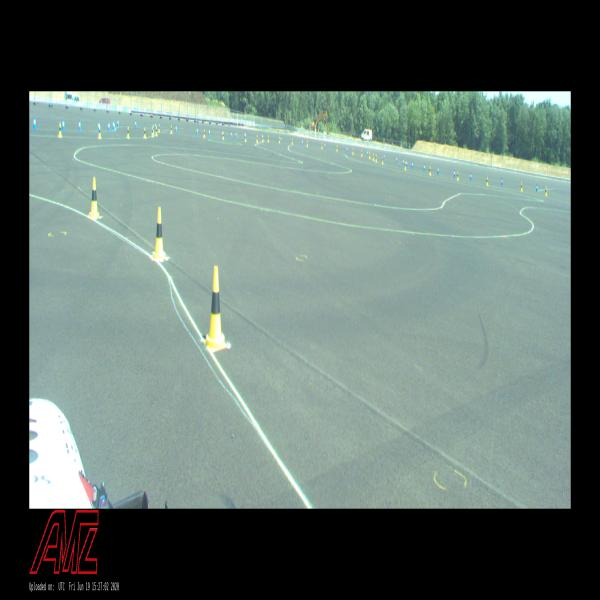blue_cone: (78, 119, 82, 132), (97, 120, 100, 132), (62, 118, 65, 130), (113, 121, 116, 131), (34, 116, 36, 130), (500, 177, 503, 186), (108, 120, 110, 132), (301, 138, 304, 146), (117, 119, 119, 128), (411, 160, 413, 169), (135, 120, 137, 128), (437, 167, 439, 175), (536, 184, 538, 192), (470, 172, 472, 180), (402, 158, 404, 166), (280, 136, 282, 144), (324, 142, 326, 150), (406, 160, 408, 167), (383, 153, 385, 160), (346, 146, 348, 153), (113, 120, 114, 129), (155, 121, 156, 130), (424, 164, 425, 172), (454, 170, 455, 178), (209, 128, 210, 136), (176, 125, 177, 132), (236, 131, 237, 138), (231, 131, 232, 138), (367, 150, 368, 157), (197, 128, 198, 134), (396, 157, 397, 163)
yellow_cone: (204, 266, 228, 352), (152, 207, 166, 261), (89, 178, 100, 219), (58, 122, 62, 138), (98, 125, 102, 139), (127, 127, 130, 138), (520, 182, 523, 191), (155, 127, 158, 136), (456, 172, 459, 180), (144, 127, 146, 138), (545, 186, 547, 196), (152, 127, 154, 137), (152, 124, 154, 134), (429, 166, 431, 175), (486, 177, 488, 186), (404, 161, 406, 170), (158, 124, 160, 132), (375, 154, 377, 162), (170, 125, 172, 133), (256, 135, 258, 143), (222, 132, 224, 140), (262, 135, 264, 143), (321, 142, 323, 150), (336, 145, 338, 152), (352, 148, 354, 155), (204, 130, 205, 138), (373, 153, 374, 161), (279, 136, 280, 144), (245, 134, 246, 142), (307, 140, 308, 148), (361, 150, 362, 157), (292, 138, 293, 145), (382, 157, 383, 164), (369, 152, 370, 159), (268, 136, 269, 142)
